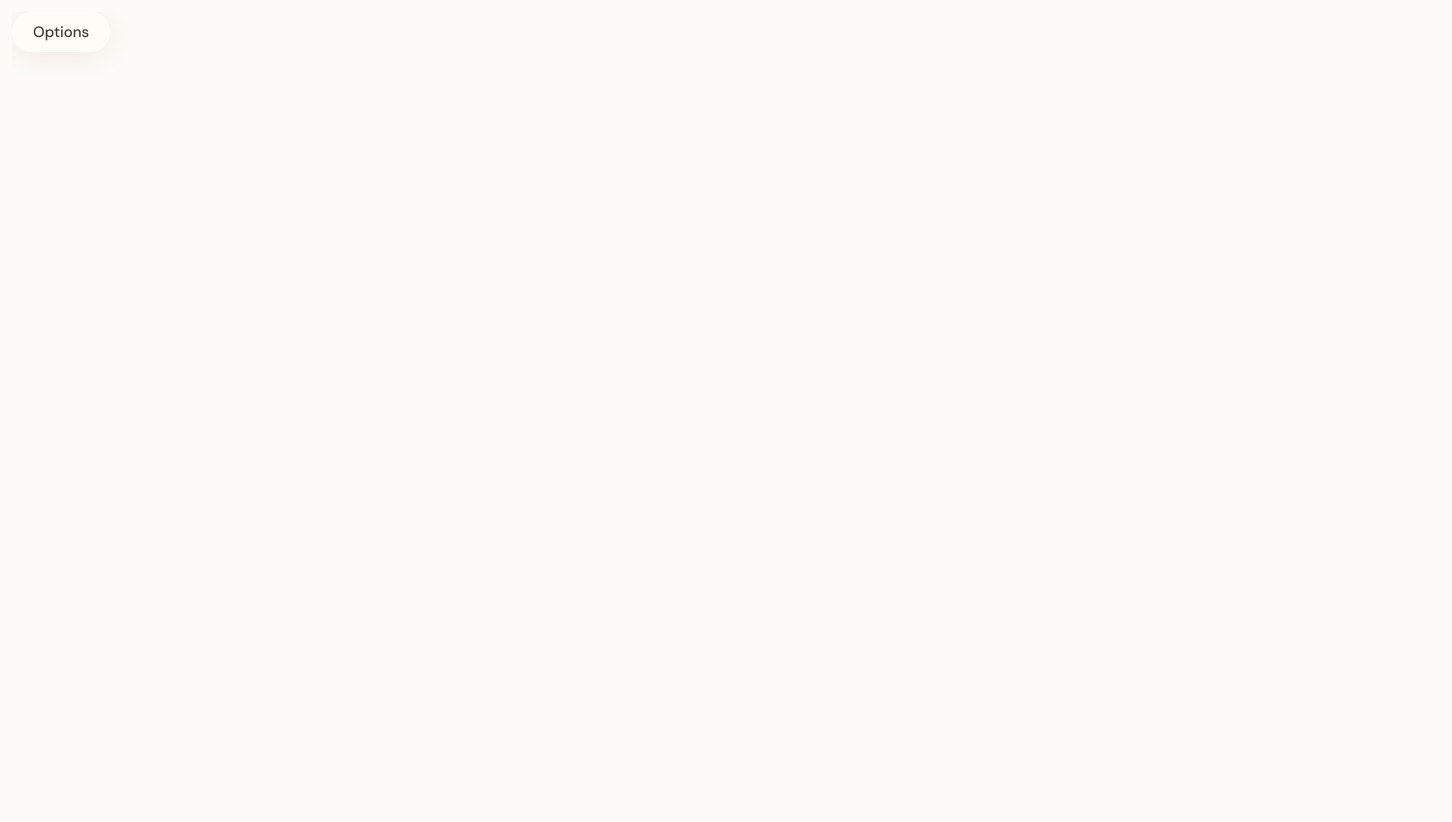
Scenario: Popover › closes when clicking outside
This screenshot has width=1452, height=822.
Click the button "Options" at (61, 32), box top-left (12, 12), bottom-right (110, 52)
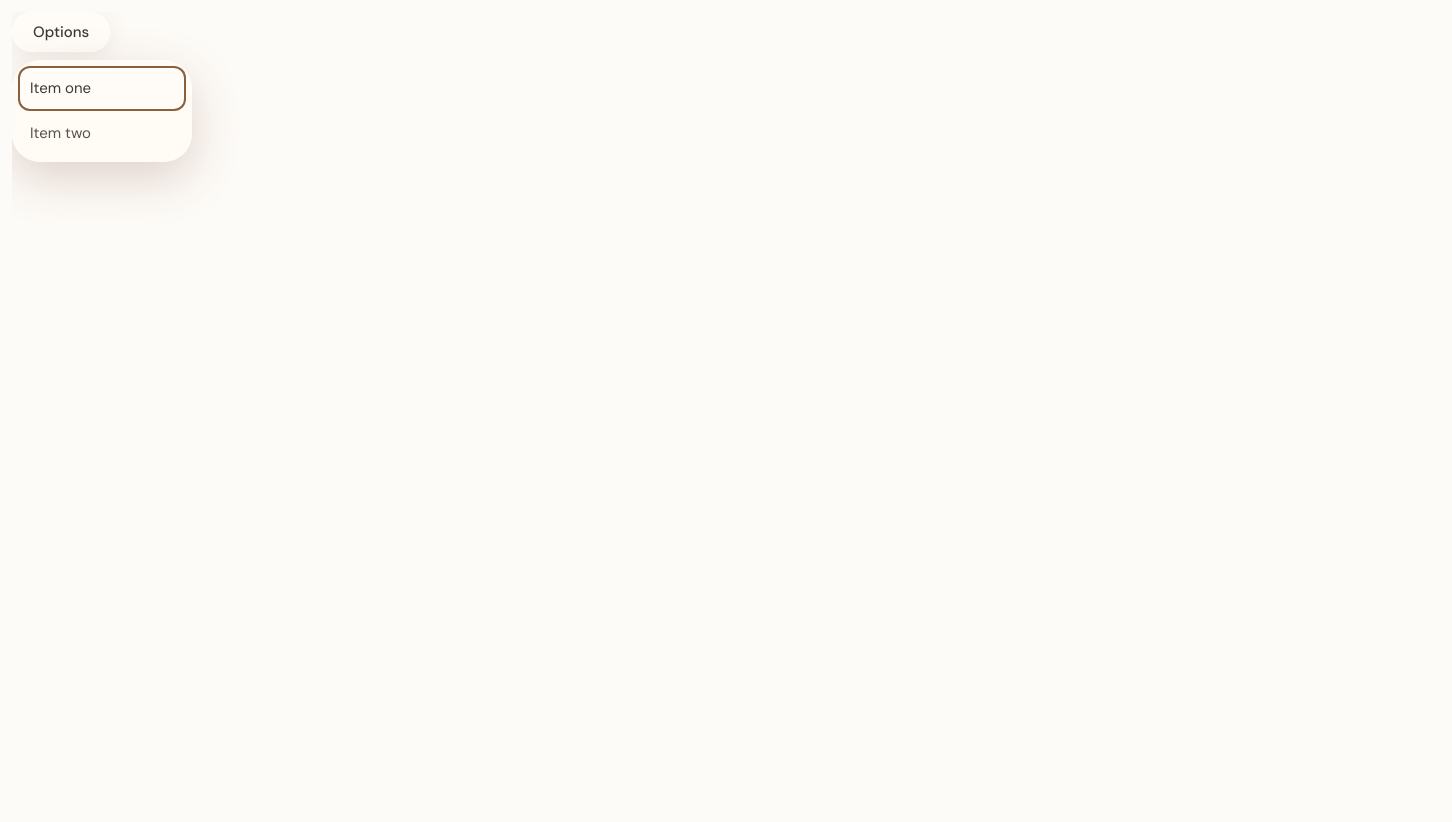
Now the menu is shown, box top-left (12, 60), bottom-right (192, 162)
Click the element showing "Options Item one Item two" at (732, 417), box top-left (12, 12), bottom-right (1451, 821)
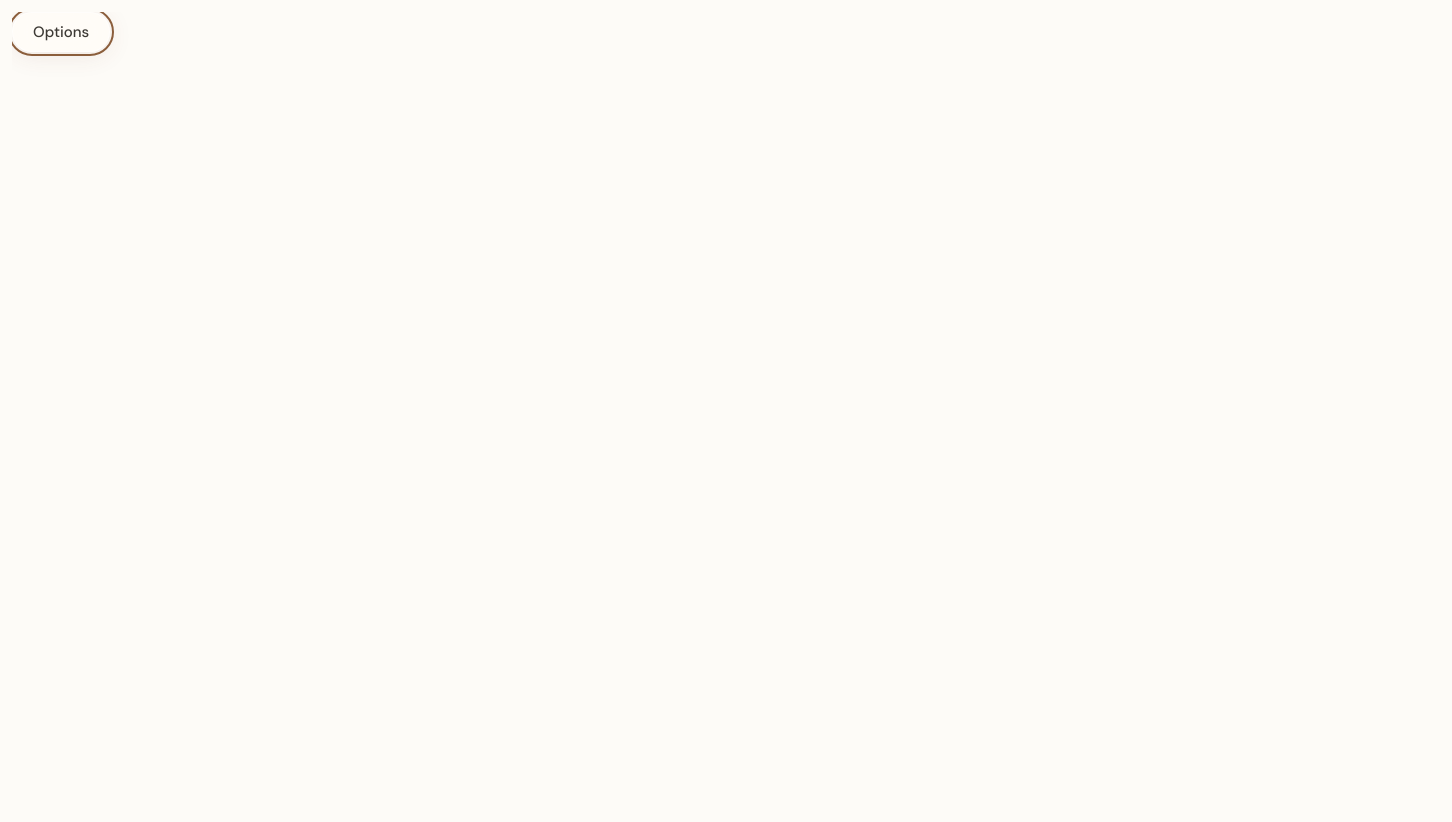
Now the menu is gone
